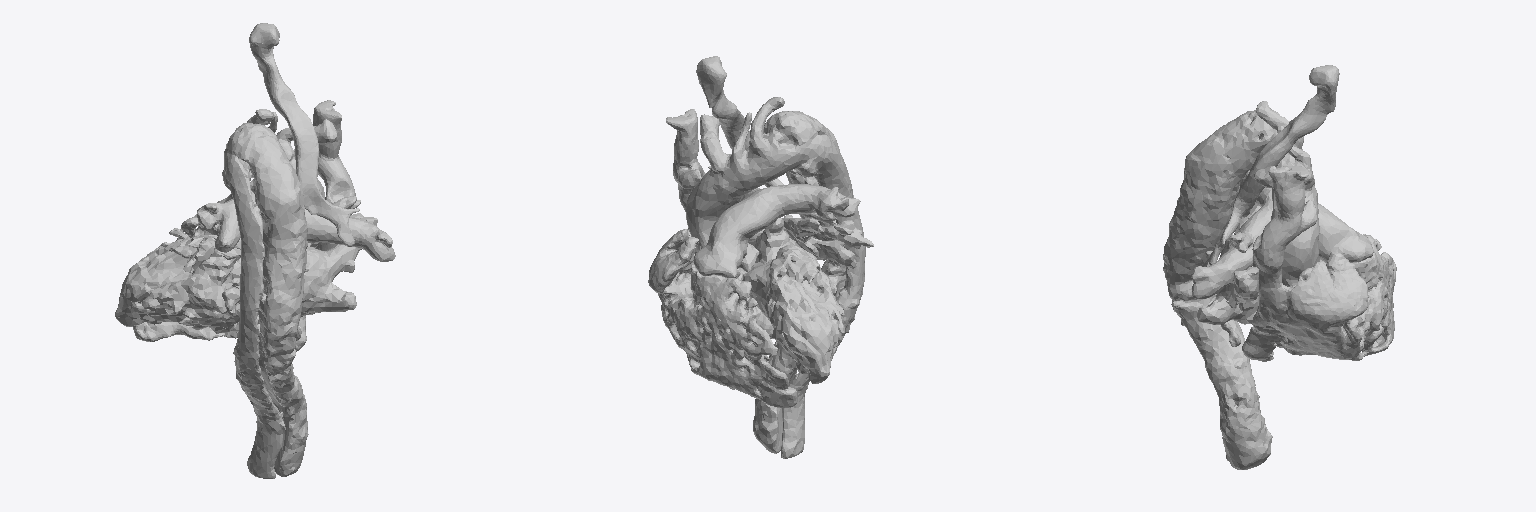
File: 2018021-01Trachealowres.obj
3 renders of one model, left to right at view 1: azimuth 30°, elevation 25°; view 2: azimuth 150°, elevation 25°; view 3: azimuth 270°, elevation 25°, orthographic.
Parts seen in each view (by area): view 1: [number redacted]_Aortic_Dissection_Pre_Ao_Edited, [number redacted]_Aortic_Dissection_Pre_Pv_La_Lv_Edited, [number redacted]_Aortic_Dissection_Pre_Tr_Edited, [number redacted]_Aortic_Dissection_Pre_Ra_Rv_Edited, [number redacted]_Aortic_Dissection_Pre_Pa_Edited; view 2: [number redacted]_Aortic_Dissection_Pre_Ao_Edited, [number redacted]_Aortic_Dissection_Pre_Ra_Rv_Edited, [number redacted]_Aortic_Dissection_Pre_Pv_La_Lv_Edited, [number redacted]_Aortic_Dissection_Pre_Pa_Edited, [number redacted]_Aortic_Dissection_Pre_Tr_Edited; view 3: [number redacted]_Aortic_Dissection_Pre_Ao_Edited, [number redacted]_Aortic_Dissection_Pre_Ra_Rv_Edited, [number redacted]_Aortic_Dissection_Pre_Pa_Edited, [number redacted]_Aortic_Dissection_Pre_Tr_Edited, [number redacted]_Aortic_Dissection_Pre_Pv_La_Lv_Edited.
Boxes of the visible parts, x1=… form: [number redacted]_Aortic_Dissection_Pre_Ao_Edited: x1=222, y1=109, x2=337, y2=478; [number redacted]_Aortic_Dissection_Pre_Pv_La_Lv_Edited: x1=115, y1=213, x2=377, y2=333; [number redacted]_Aortic_Dissection_Pre_Tr_Edited: x1=214, y1=23, x2=359, y2=249; [number redacted]_Aortic_Dissection_Pre_Ra_Rv_Edited: x1=132, y1=100, x2=355, y2=350; [number redacted]_Aortic_Dissection_Pre_Pa_Edited: x1=197, y1=191, x2=395, y2=261; [number redacted]_Aortic_Dissection_Pre_Ao_Edited: x1=686, y1=97, x2=865, y2=458; [number redacted]_Aortic_Dissection_Pre_Ra_Rv_Edited: x1=648, y1=109, x2=798, y2=407; [number redacted]_Aortic_Dissection_Pre_Pv_La_Lv_Edited: x1=738, y1=218, x2=873, y2=383; [number redacted]_Aortic_Dissection_Pre_Pa_Edited: x1=693, y1=166, x2=860, y2=278; [number redacted]_Aortic_Dissection_Pre_Tr_Edited: x1=696, y1=56, x2=836, y2=225; [number redacted]_Aortic_Dissection_Pre_Ao_Edited: x1=1163, y1=101, x2=1319, y2=469; [number redacted]_Aortic_Dissection_Pre_Ra_Rv_Edited: x1=1242, y1=166, x2=1396, y2=361; [number redacted]_Aortic_Dissection_Pre_Pa_Edited: x1=1191, y1=177, x2=1373, y2=298; [number redacted]_Aortic_Dissection_Pre_Tr_Edited: x1=1209, y1=65, x2=1339, y2=265; [number redacted]_Aortic_Dissection_Pre_Pv_La_Lv_Edited: x1=1197, y1=204, x2=1326, y2=324.
Bounding box in the file's own units: 172 × 335 × 173.